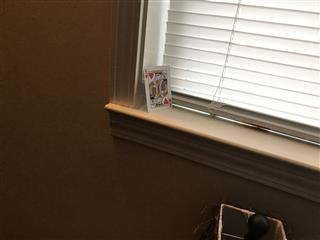KingOfHearts: (143, 64, 173, 112)
